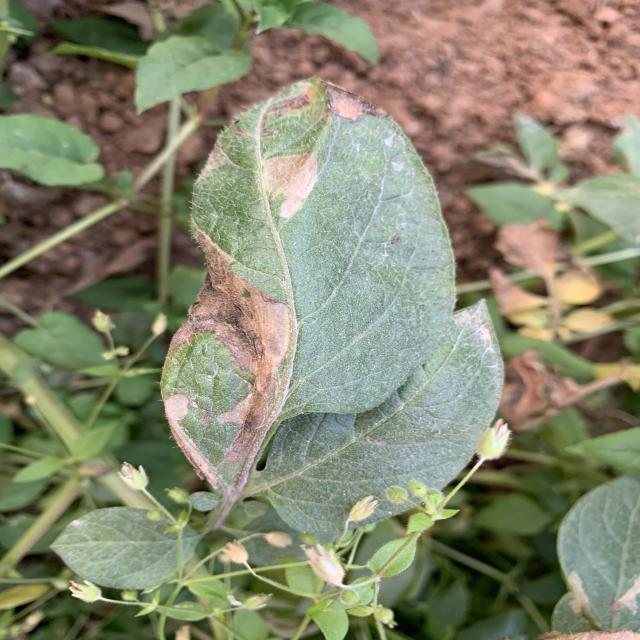lateblight: (170, 230, 292, 462), (262, 152, 317, 218), (322, 81, 388, 121)
